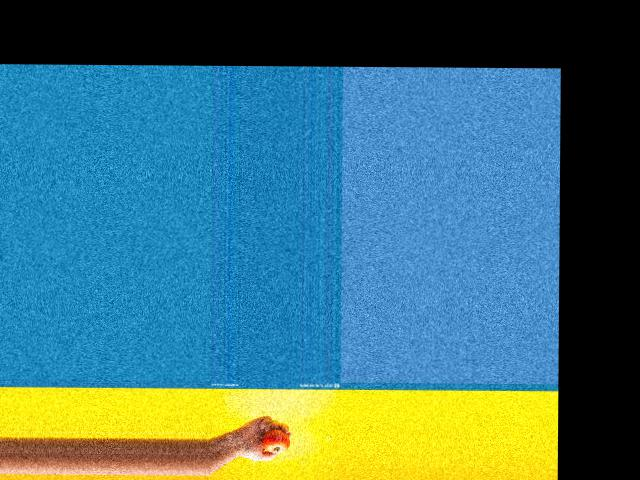tomato: (262, 429, 289, 452)
